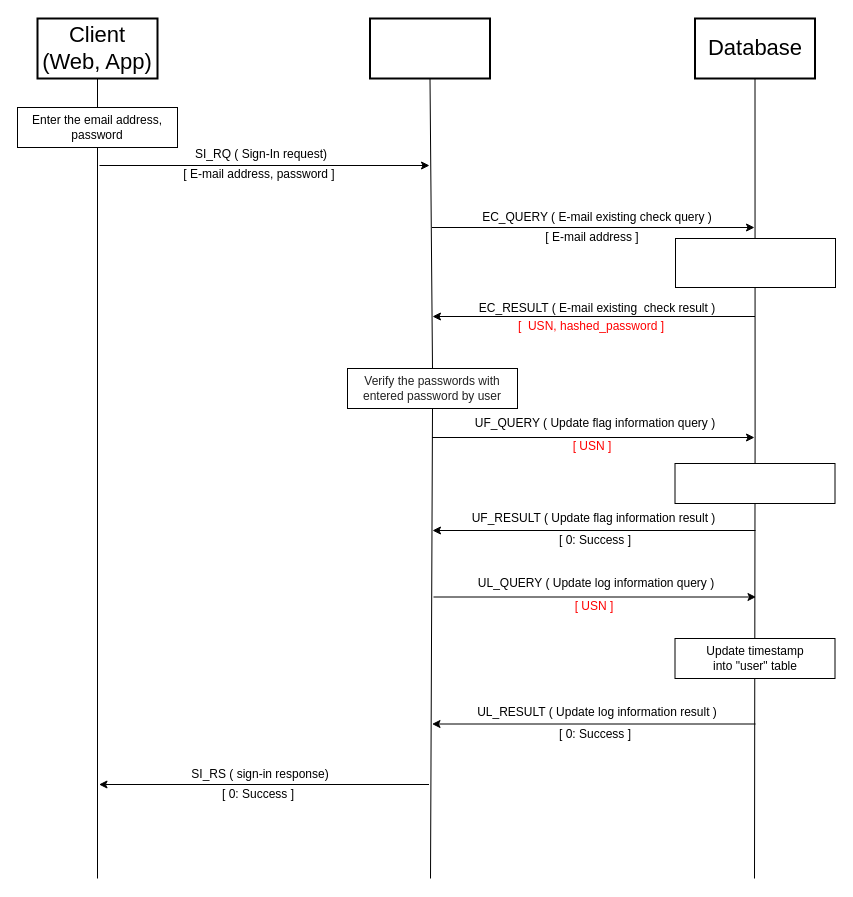
The diagram is 853 pixels wide and 897 high, and some of its shapes have lost their labels. The shapes that lost their labels are listed below. From the top down, each one's box as (x1, y1, x2, y2) in pixels, then its label:
(368, 17, 490, 79): Server
(674, 238, 836, 288): Select the USN, hashed password from the "user"table
(674, 462, 835, 504): Update login_flag_status to 1 into "user"table
